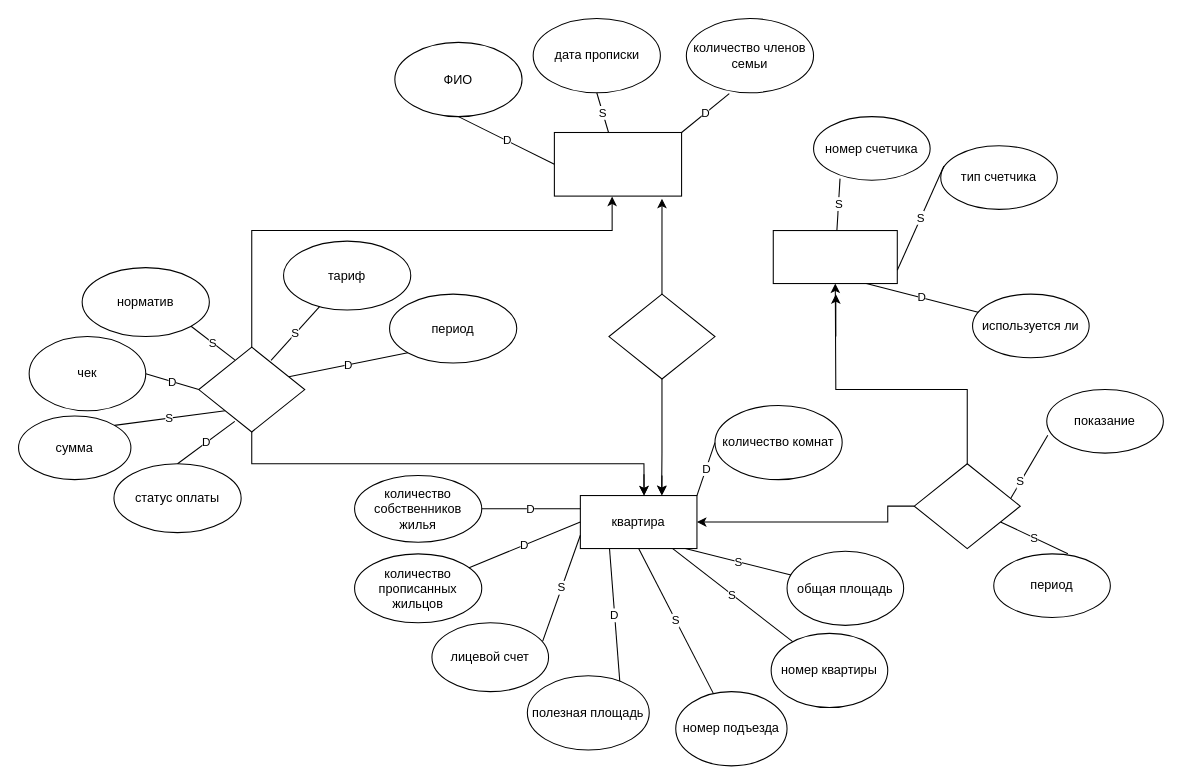
The diagram is 1182 pixels wide and 784 high, and some of its shapes have lost their labels. The centre of each missing label's shape, as x and y in pixels:
"квартиросъемщик" goes at pixel 617 163.
"оплата" goes at pixel 251 389.
"передача показаний" goes at pixel 966 506.
"проживание" goes at pixel 661 336.
"счетчик" goes at pixel 834 256.
